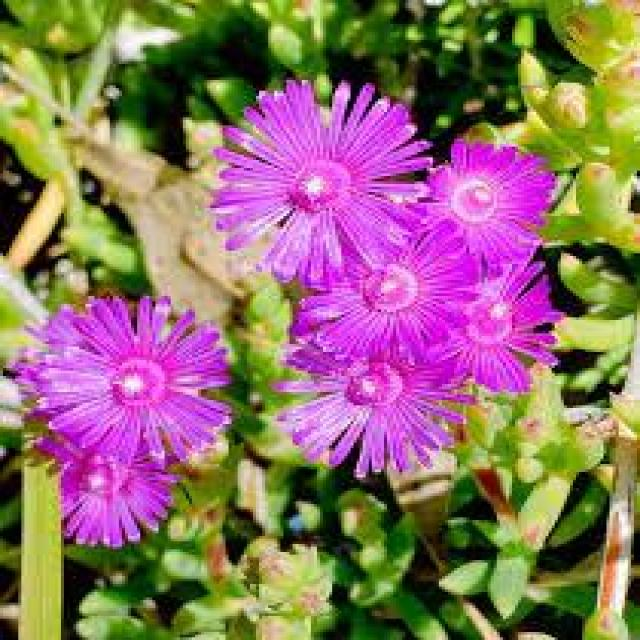organic waste: (210, 73, 421, 271), (30, 293, 241, 467), (298, 193, 476, 375), (280, 312, 476, 477), (399, 140, 555, 273), (411, 274, 561, 402), (48, 428, 184, 545)
